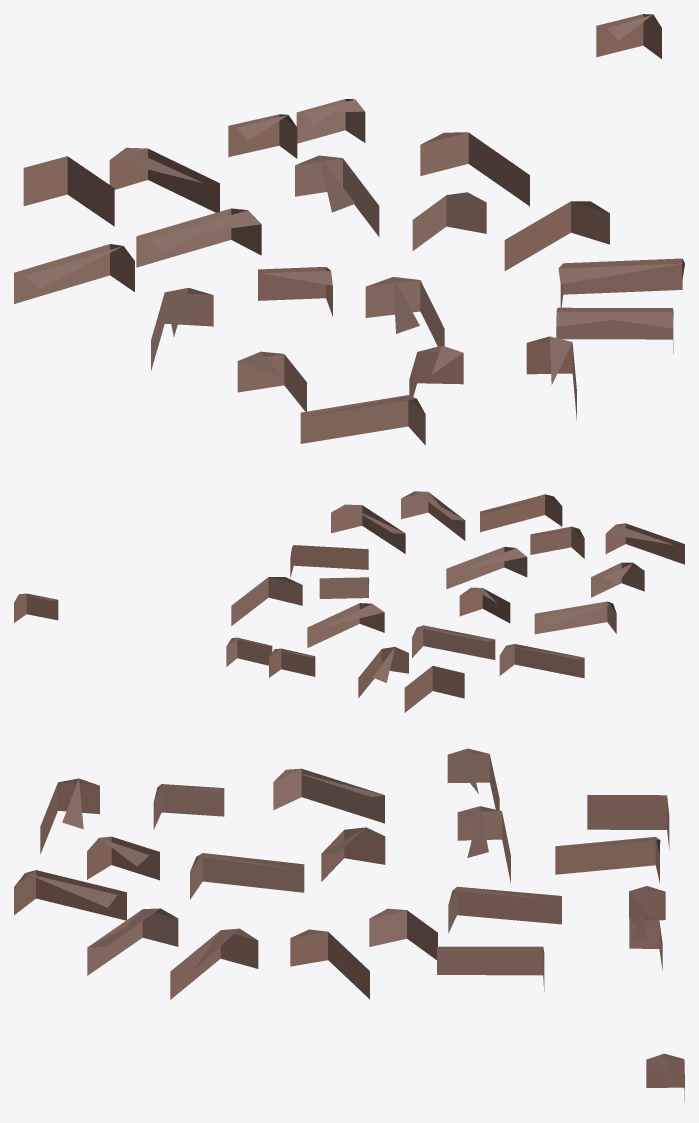
The model's file is c_1640_17837_buildings_residential.glb.
The picture shows the model from 3 angles, top to bottom: view 1: azimuth 30°, elevation 25°; view 2: azimuth 150°, elevation 25°; view 3: azimuth 270°, elevation 25°; orthographic projection. The views are drawn at different scales.
Parts seen in each view (by area): view 1: geometry_0; view 2: geometry_0; view 3: geometry_0.
Boxes of the visible parts, box(x1,y1,x2,y2) form: geometry_0: box(14, 14, 684, 445); geometry_0: box(14, 491, 684, 712); geometry_0: box(14, 748, 684, 1101).
Bounding box in the file's own units: 221 × 11.08 × 192.
